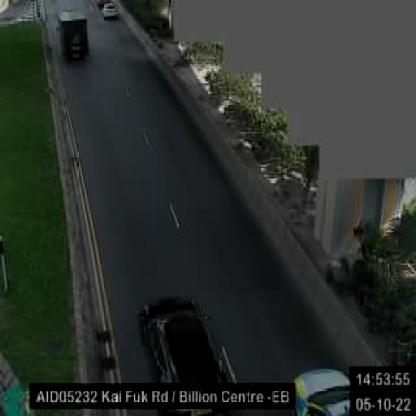Car: (135, 295, 230, 383)
Truck: (56, 10, 91, 61)
